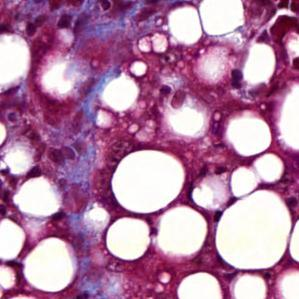steatosis: (112, 150, 185, 213)
